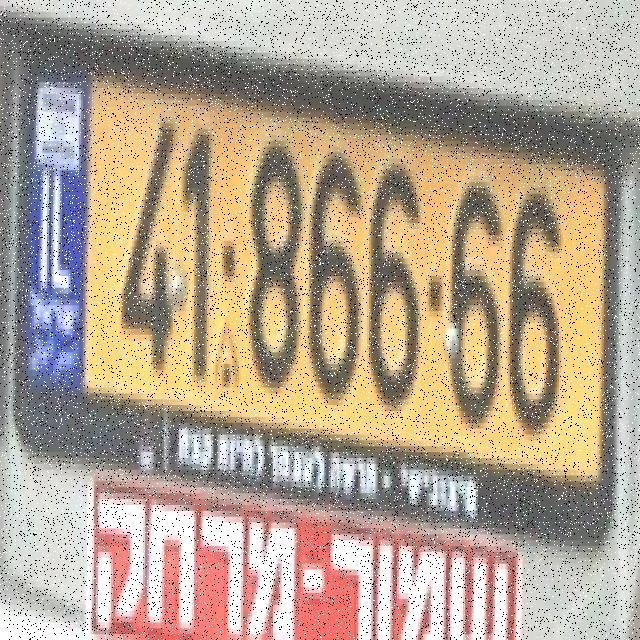LicensePlate: (19, 7, 630, 558)
